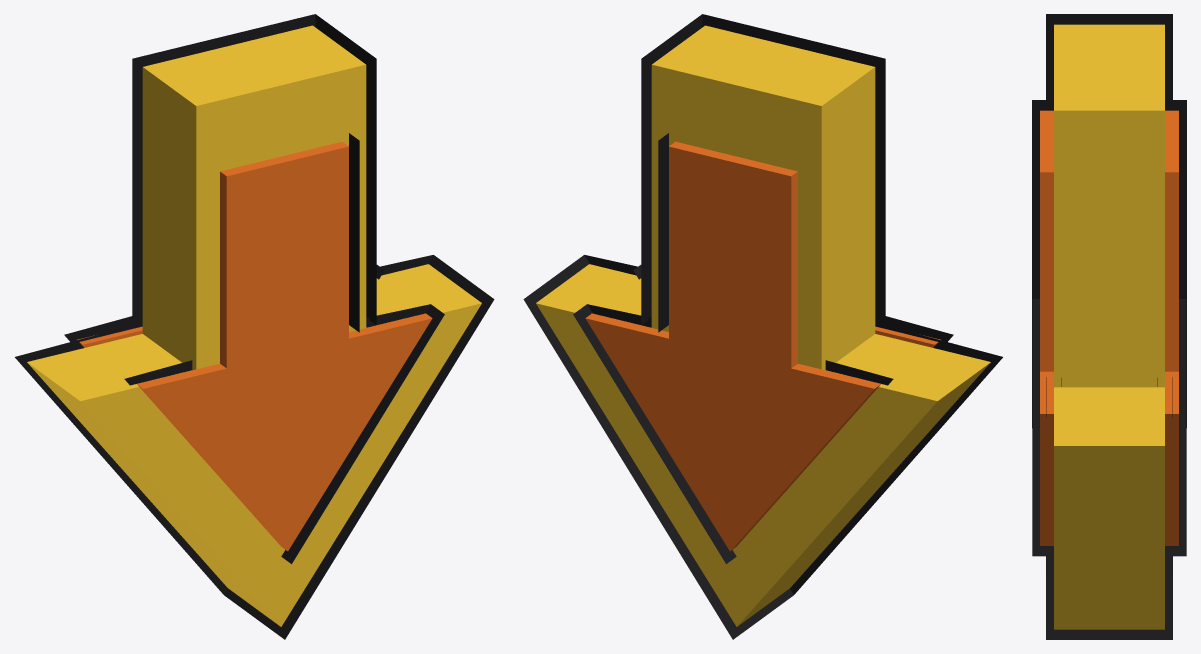
Rendered from Flecha_Tutorial.fbx.
The picture shows the model from 3 angles, left to right: view 1: azimuth 30°, elevation 25°; view 2: azimuth 150°, elevation 25°; view 3: azimuth 270°, elevation 25°; orthographic projection. The views are drawn at different scales.
Parts seen in each view (by area): view 1: Flecha_Tutorial; view 2: Flecha_Tutorial; view 3: Flecha_Tutorial.
Part boxes in pixels (bbox=[...]): Flecha_Tutorial: bbox=[15, 14, 494, 639]; Flecha_Tutorial: bbox=[523, 14, 1002, 639]; Flecha_Tutorial: bbox=[1032, 14, 1186, 639].
Bounding box in the file's own units: 0.5425 × 0.691 × 0.1673.
2 materials, 1 textured.
